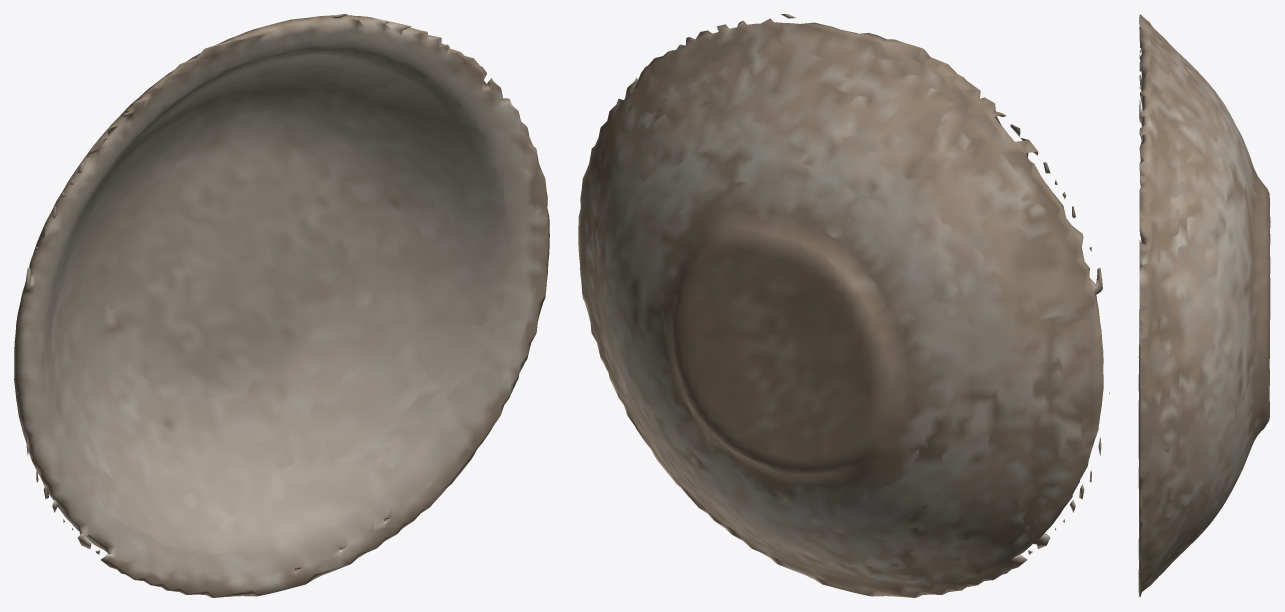
Rendered from a graspable bowl.obj.
3 views of the same model, side by side, from view 1: azimuth 30°, elevation 25°; view 2: azimuth 150°, elevation 25°; view 3: azimuth 270°, elevation 25° (orthographic). The views are drawn at different scales.
Size of the model in its own units: 0.9643 by 0.9782 by 0.2236.
